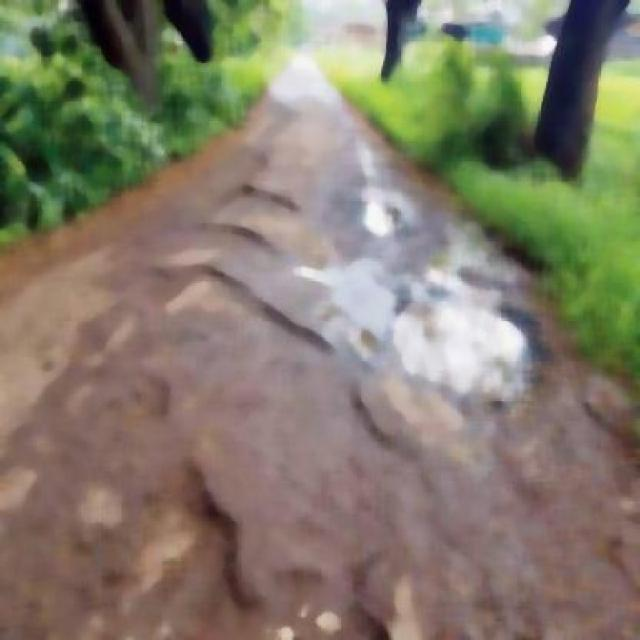Pothole: (387, 280, 541, 426), (346, 179, 419, 252)
